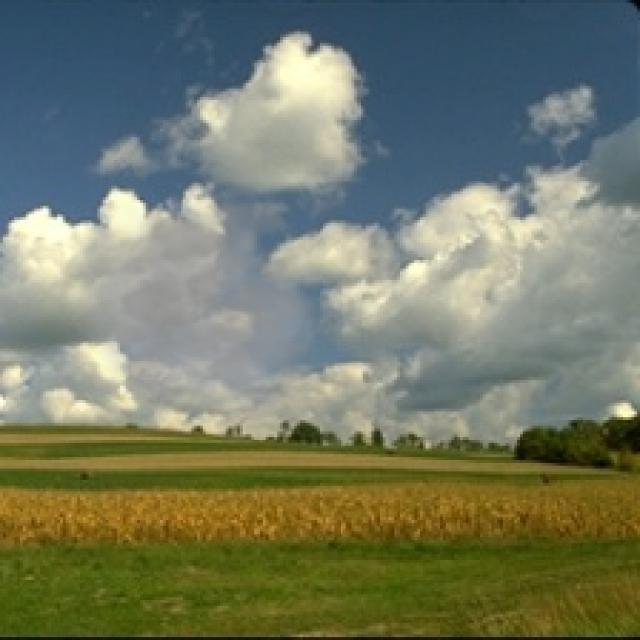smoke: (57, 180, 329, 417)
